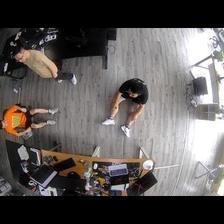fall: (100, 78, 150, 137)
normal: (10, 47, 78, 86), (1, 105, 58, 136)
